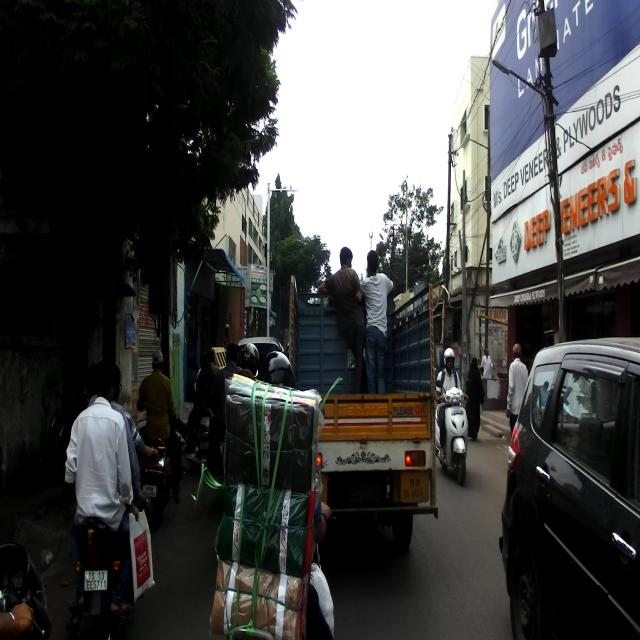Car_Maruti-Suzuki: (497, 336, 640, 640)
motorcycle_Yamaha: (74, 448, 157, 638)
scooter: (137, 412, 185, 527), (433, 379, 470, 488)
truck: (288, 273, 440, 561)
